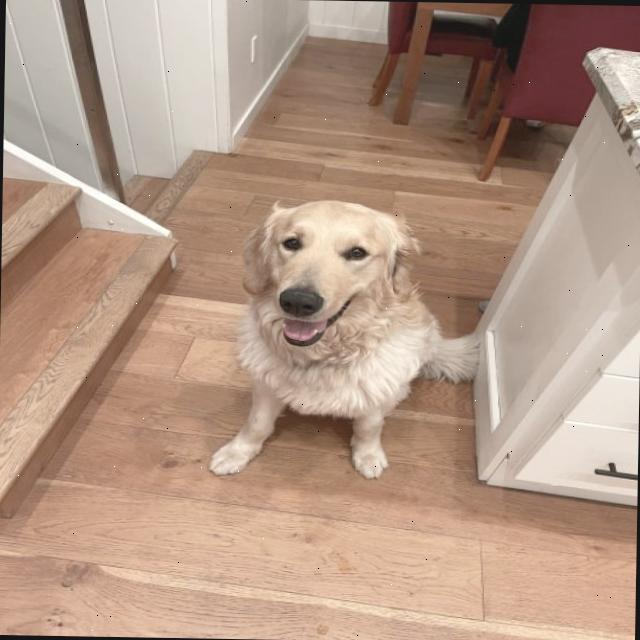golden_retriever_dog: (222, 197, 430, 360)
